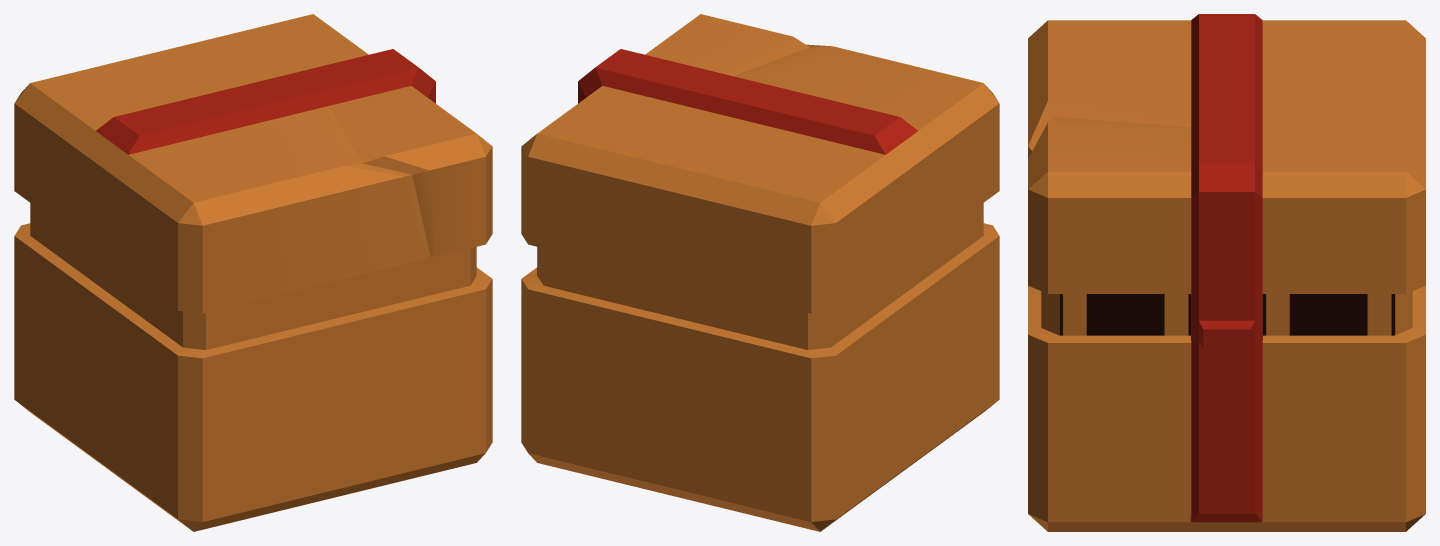
File: Robot_head.fbx
3 views of the same model, side by side, from view 1: azimuth 30°, elevation 25°; view 2: azimuth 150°, elevation 25°; view 3: azimuth 270°, elevation 25° (orthographic). The views are drawn at different scales.
Parts seen in each view (by area): view 1: pCube11; view 2: pCube11; view 3: pCube11.
Part boxes in pixels (left/top/right/bottom): pCube11: left=14, top=14, right=492, bottom=531; pCube11: left=521, top=14, right=999, bottom=531; pCube11: left=1028, top=14, right=1425, bottom=531.
Size of the model in its own units: 1.02 by 0.9771 by 0.9402.
1 material, 1 textured.
